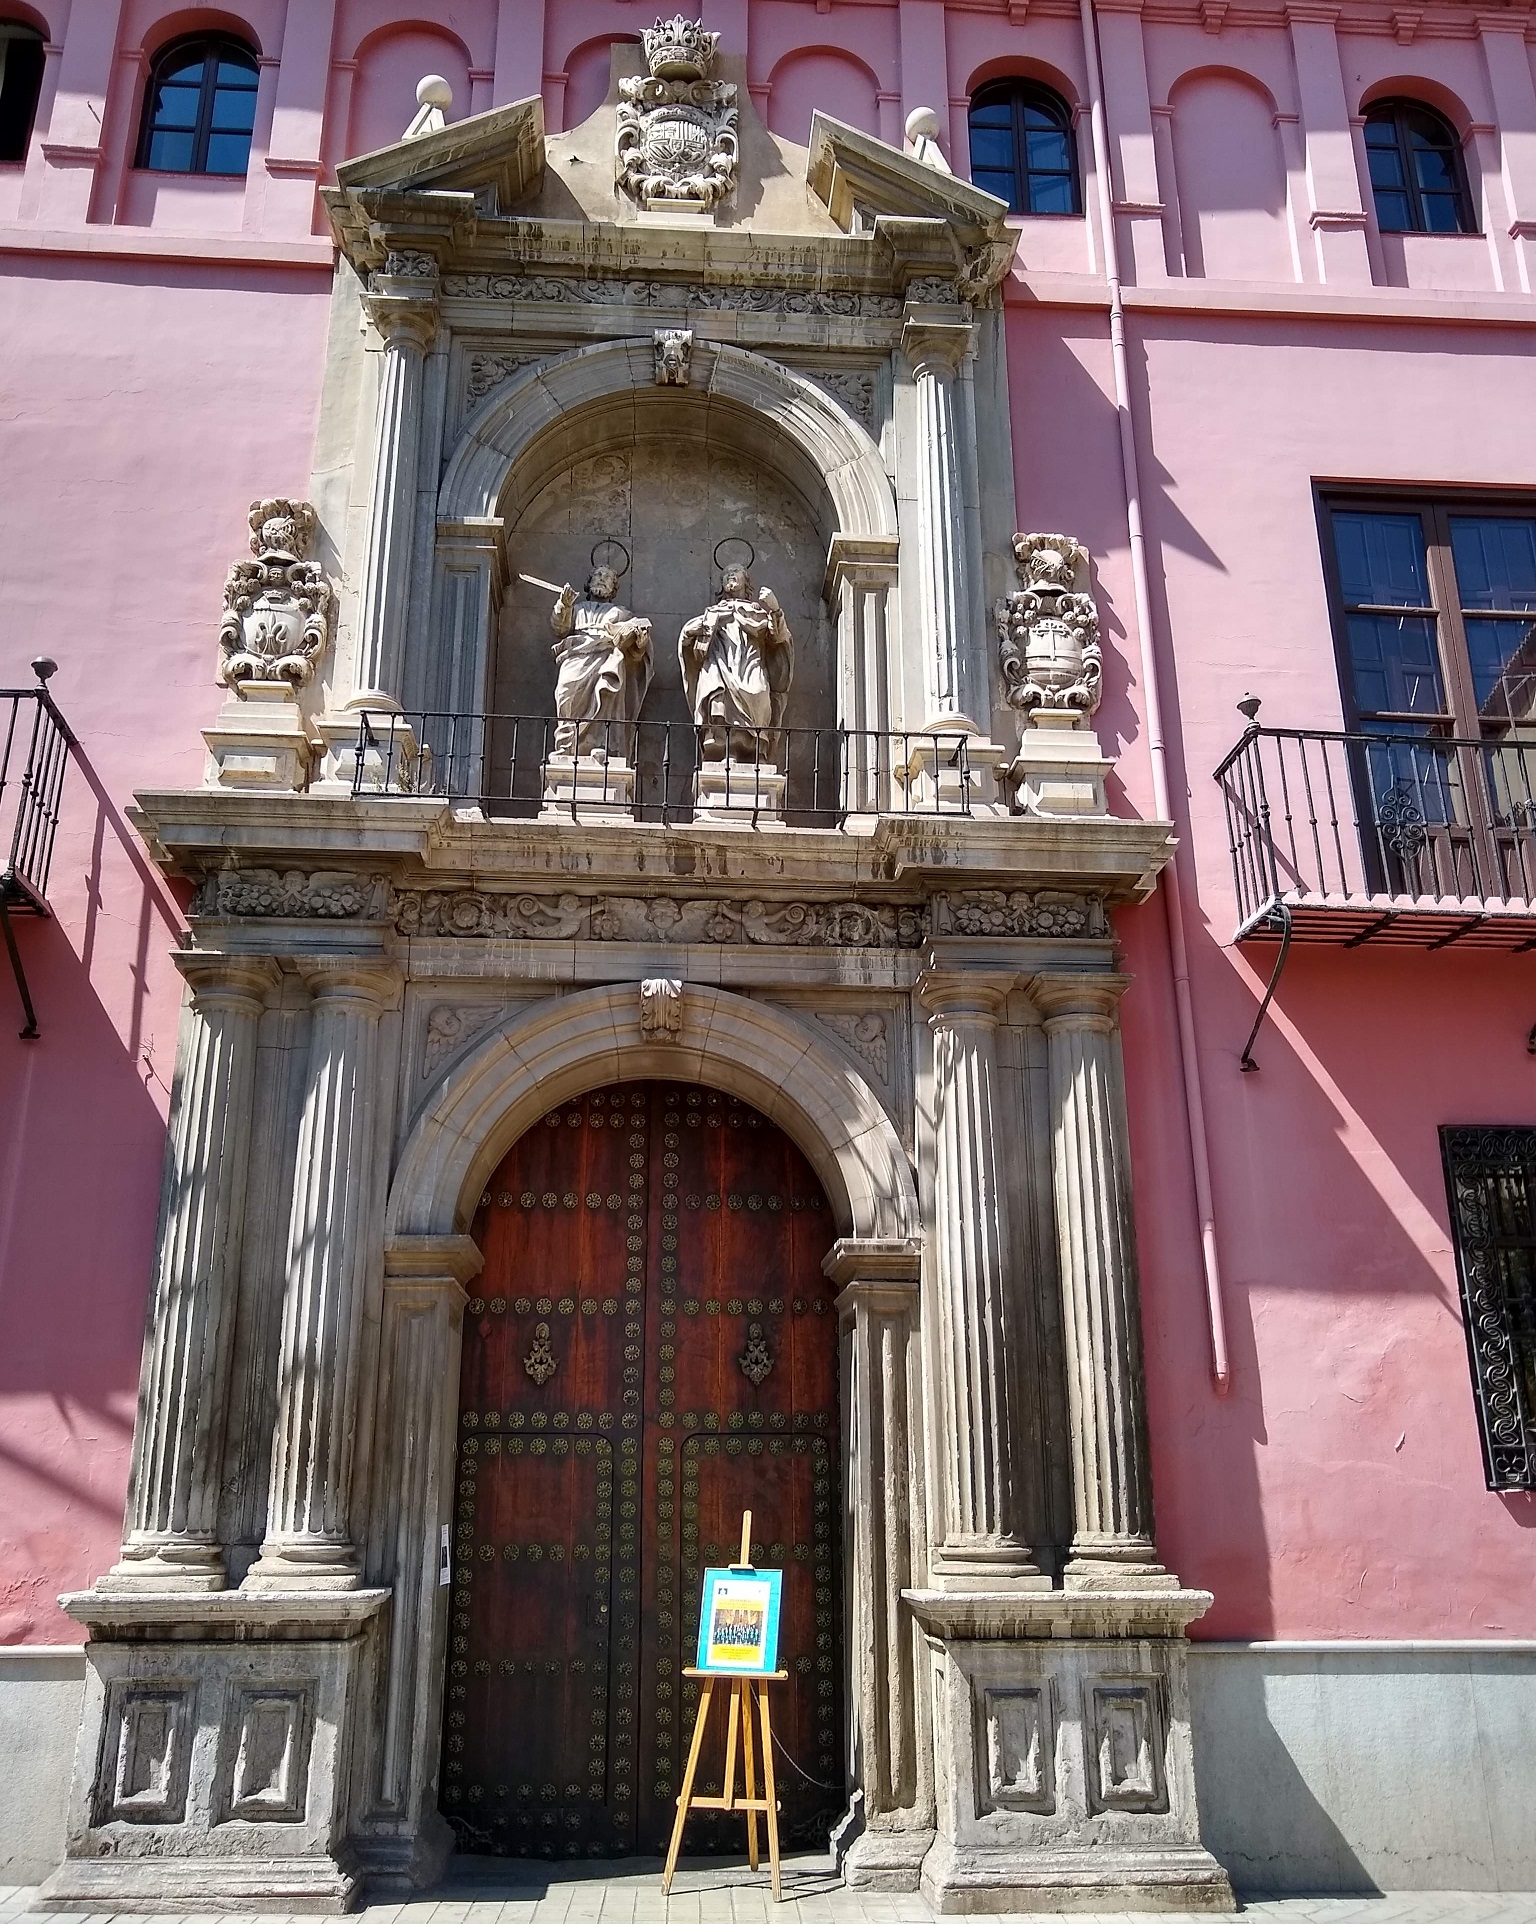arco-medio-punto: (429, 1047, 906, 1349), (469, 370, 871, 609)
fronton-partido: (321, 85, 1023, 273)
